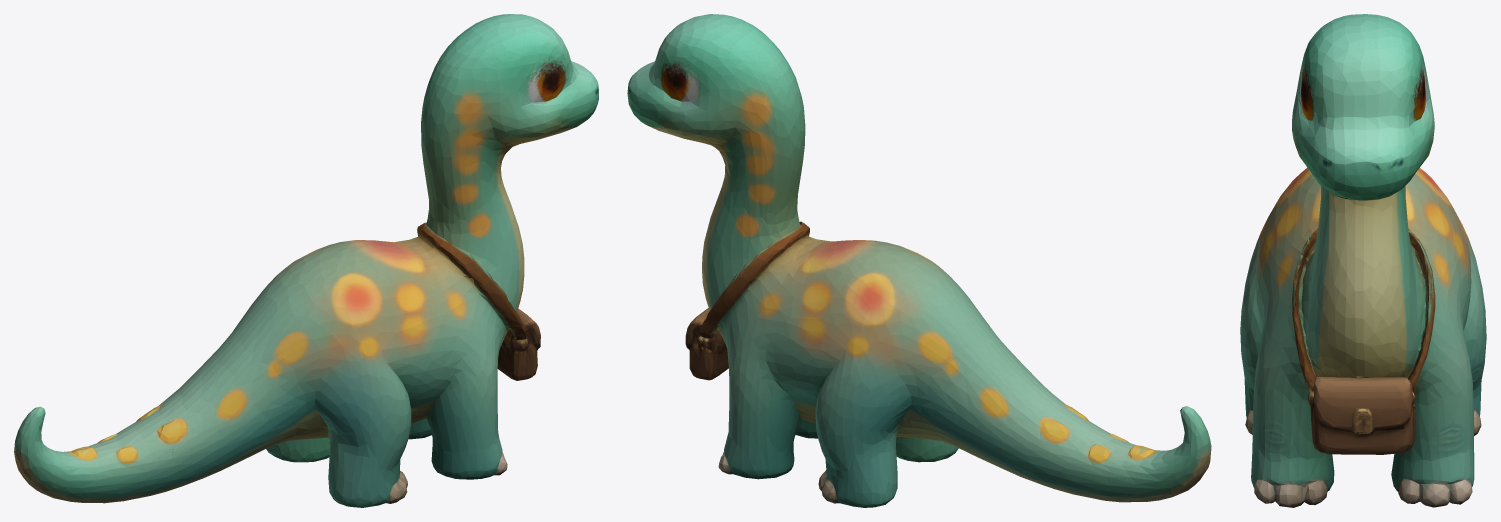
The model's file is image_10.glb.
The picture shows the model from 3 angles, left to right: view 1: azimuth 30°, elevation 25°; view 2: azimuth 150°, elevation 25°; view 3: azimuth 270°, elevation 25°; orthographic projection. The views are drawn at different scales.
Visible parts, largest first — view 1: world; view 2: world; view 3: world.
Boxes of the visible parts, bbox=[...] form: world: bbox=[14, 14, 598, 507]; world: bbox=[627, 14, 1211, 507]; world: bbox=[1240, 14, 1486, 507].
Bounding box in the file's own units: 1 × 0.6851 × 0.3011.
Materials: 1 (1 with a texture image).
